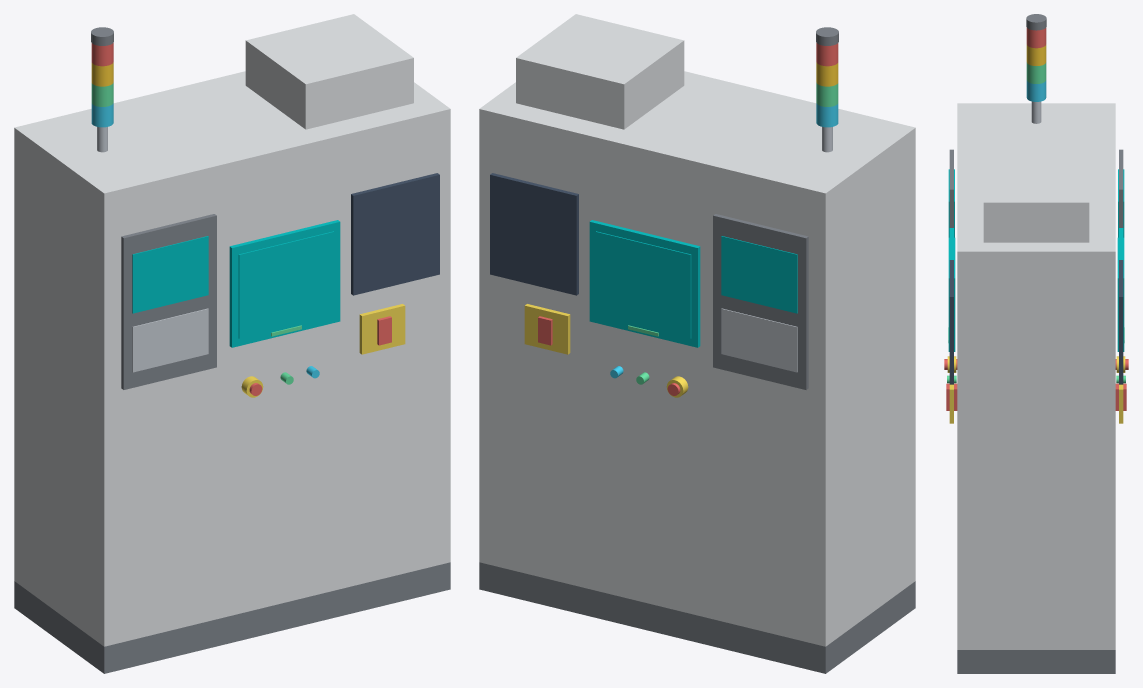
The model's file is PLC-1000_Safety_PLC_Console.glb.
3 views of the same model, side by side, from view 1: azimuth 30°, elevation 25°; view 2: azimuth 150°, elevation 25°; view 3: azimuth 270°, elevation 25° (orthographic). The views are drawn at different scales.
Parts seen in each view (by area): view 1: PLC-1000_002__Rittal_TS8_3Bay_SCADA_Enclosure__SIEMENS_RAL70, PLC-1000_015__TopTherm_Roof_AC_Unit__SIEMENS_RAL7035, PLC-1000_001__Rittal_TS8_Anthracite_Plinth__SIEMENS_PLINTH_R, PLC-1000_006__Siemens_IPC477E_WinCC_Unified_Bezel__SIEMENS_P, PLC-1000_012__AERO_H2_PIBT_Edge_Inference_Bay__HMI_SCREEN_DA, PLC-1000_003__S7_1500F_Glazed_Window_Frame__SIEMENS_PLINTH_R, PLC-1000_004__SIMATIC_S7_1515F_2PN_FailSafe_Rack__SIEMENS_PE, PLC-1000_005__ET200SP_Profisafe_IO_And_SCALANCE_Switch__DECK, PLC-1000_013__Main_Isolator_Escutcheon__SAFETY_YELLOW_OSHA; view 2: PLC-1000_002__Rittal_TS8_3Bay_SCADA_Enclosure__SIEMENS_RAL70, PLC-1000_015__TopTherm_Roof_AC_Unit__SIEMENS_RAL7035, PLC-1000_001__Rittal_TS8_Anthracite_Plinth__SIEMENS_PLINTH_R, PLC-1000_006__Siemens_IPC477E_WinCC_Unified_Bezel__SIEMENS_P, PLC-1000_012__AERO_H2_PIBT_Edge_Inference_Bay__HMI_SCREEN_DA, PLC-1000_003__S7_1500F_Glazed_Window_Frame__SIEMENS_PLINTH_R, PLC-1000_004__SIMATIC_S7_1515F_2PN_FailSafe_Rack__SIEMENS_PE, PLC-1000_005__ET200SP_Profisafe_IO_And_SCALANCE_Switch__DECK, PLC-1000_013__Main_Isolator_Escutcheon__SAFETY_YELLOW_OSHA; view 3: PLC-1000_002__Rittal_TS8_3Bay_SCADA_Enclosure__SIEMENS_RAL70, PLC-1000_015__TopTherm_Roof_AC_Unit__SIEMENS_RAL7035, PLC-1000_001__Rittal_TS8_Anthracite_Plinth__SIEMENS_PLINTH_R, PLC-1000_012__AERO_H2_PIBT_Edge_Inference_Bay__HMI_SCREEN_DA, PLC-1000_006__Siemens_IPC477E_WinCC_Unified_Bezel__SIEMENS_P, PLC-1000_003__S7_1500F_Glazed_Window_Frame__SIEMENS_PLINTH_R, PLC-1000_014__Main_415V_Rotary_Disconnect__SAFETY_RED_VALVE, PLC-1000_004__SIMATIC_S7_1515F_2PN_FailSafe_Rack__SIEMENS_PE, PLC-1000_013__Main_Isolator_Escutcheon__SAFETY_YELLOW_OSHA, PLC-1000_017__Andon_Blue_PIBT_Tracking__LED_BLUE, PLC-1000_018__Andon_Green_Normal_30Bar__LED_GREEN, PLC-1000_019__Andon_Amber_Biofilm_Pulse_Active__LED_AMBER (+2 smaller).
Part boxes in pixels (x1,y1,x2,y2): PLC-1000_002__Rittal_TS8_3Bay_SCADA_Enclosure__SIEMENS_RAL70: (14,71,450,646); PLC-1000_015__TopTherm_Roof_AC_Unit__SIEMENS_RAL7035: (245,14,413,129); PLC-1000_001__Rittal_TS8_Anthracite_Plinth__SIEMENS_PLINTH_R: (14,562,450,673); PLC-1000_006__Siemens_IPC477E_WinCC_Unified_Bezel__SIEMENS_P: (229,220,340,347); PLC-1000_012__AERO_H2_PIBT_Edge_Inference_Bay__HMI_SCREEN_DA: (351,173,439,295); PLC-1000_003__S7_1500F_Glazed_Window_Frame__SIEMENS_PLINTH_R: (121,214,216,389); PLC-1000_004__SIMATIC_S7_1515F_2PN_FailSafe_Rack__SIEMENS_PE: (132,236,208,313); PLC-1000_005__ET200SP_Profisafe_IO_And_SCALANCE_Switch__DECK: (132,308,208,372); PLC-1000_013__Main_Isolator_Escutcheon__SAFETY_YELLOW_OSHA: (359,304,405,354); PLC-1000_002__Rittal_TS8_3Bay_SCADA_Enclosure__SIEMENS_RAL70: (479,71,915,646); PLC-1000_015__TopTherm_Roof_AC_Unit__SIEMENS_RAL7035: (516,14,684,129); PLC-1000_001__Rittal_TS8_Anthracite_Plinth__SIEMENS_PLINTH_R: (479,562,915,673); PLC-1000_006__Siemens_IPC477E_WinCC_Unified_Bezel__SIEMENS_P: (589,220,700,347); PLC-1000_012__AERO_H2_PIBT_Edge_Inference_Bay__HMI_SCREEN_DA: (490,173,578,295); PLC-1000_003__S7_1500F_Glazed_Window_Frame__SIEMENS_PLINTH_R: (713,214,808,389); PLC-1000_004__SIMATIC_S7_1515F_2PN_FailSafe_Rack__SIEMENS_PE: (721,236,797,313); PLC-1000_005__ET200SP_Profisafe_IO_And_SCALANCE_Switch__DECK: (721,308,797,372); PLC-1000_013__Main_Isolator_Escutcheon__SAFETY_YELLOW_OSHA: (524,304,570,354); PLC-1000_002__Rittal_TS8_3Bay_SCADA_Enclosure__SIEMENS_RAL70: (957,103,1115,649); PLC-1000_015__TopTherm_Roof_AC_Unit__SIEMENS_RAL7035: (983,156,1089,242); PLC-1000_001__Rittal_TS8_Anthracite_Plinth__SIEMENS_PLINTH_R: (957,650,1115,673); PLC-1000_012__AERO_H2_PIBT_Edge_Inference_Bay__HMI_SCREEN_DA: (949,260,1123,384); PLC-1000_006__Siemens_IPC477E_WinCC_Unified_Bezel__SIEMENS_P: (948,228,1124,351); PLC-1000_003__S7_1500F_Glazed_Window_Frame__SIEMENS_PLINTH_R: (949,149,1123,227); PLC-1000_014__Main_415V_Rotary_Disconnect__SAFETY_RED_VALVE: (946,383,1126,410); PLC-1000_004__SIMATIC_S7_1515F_2PN_FailSafe_Rack__SIEMENS_PE: (948,169,1124,237); PLC-1000_013__Main_Isolator_Escutcheon__SAFETY_YELLOW_OSHA: (949,384,1123,423); PLC-1000_017__Andon_Blue_PIBT_Tracking__LED_BLUE: (1026,80,1046,101); PLC-1000_018__Andon_Green_Normal_30Bar__LED_GREEN: (1026,62,1046,83); PLC-1000_019__Andon_Amber_Biofilm_Pulse_Active__LED_AMBER: (1026,44,1046,65).
Bounding box in the file's own units: 1.6 × 2.64 × 0.84.
